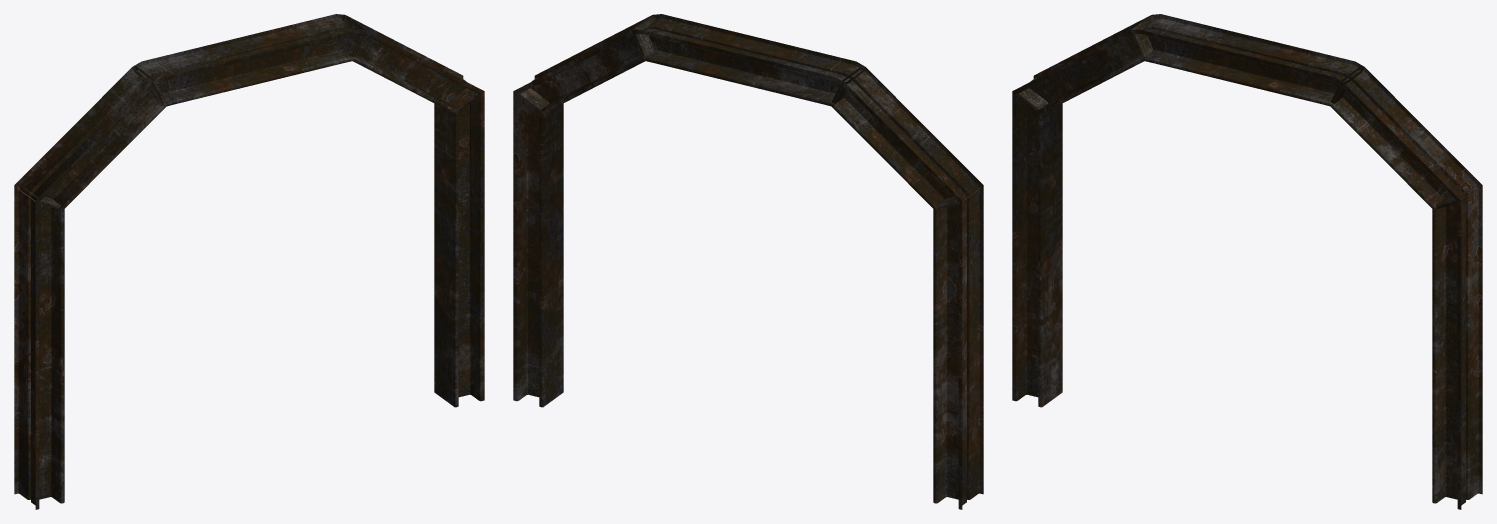
Rendered from Basement_Corridor_A_Steel_Coloumn.glb.
3 views of the same model, side by side, from view 1: azimuth 30°, elevation 25°; view 2: azimuth 150°, elevation 25°; view 3: azimuth 330°, elevation 25° (orthographic).
Visible parts, largest first — view 1: Basement_Corridor_A_Steel_Coloumn; view 2: Basement_Corridor_A_Steel_Coloumn; view 3: Basement_Corridor_A_Steel_Coloumn.
Boxes of the visible parts, x1,y1,x2,y2 form: Basement_Corridor_A_Steel_Coloumn: (14,14,484,509); Basement_Corridor_A_Steel_Coloumn: (513,14,983,509); Basement_Corridor_A_Steel_Coloumn: (1012,14,1482,509).
Size of the model in its own units: 3.8 by 3.25 by 0.3107.
Materials: 1 (1 with a texture image).
